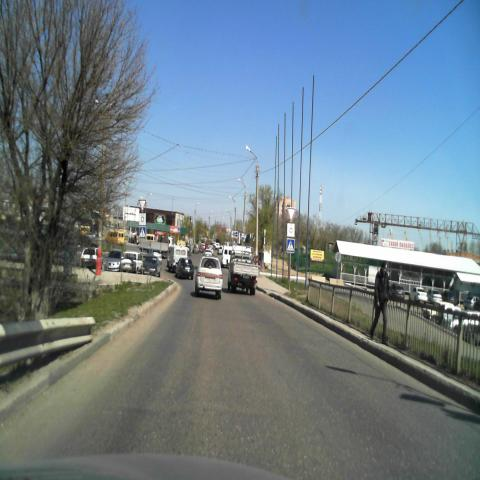8_13_1: (287, 223, 295, 237)
